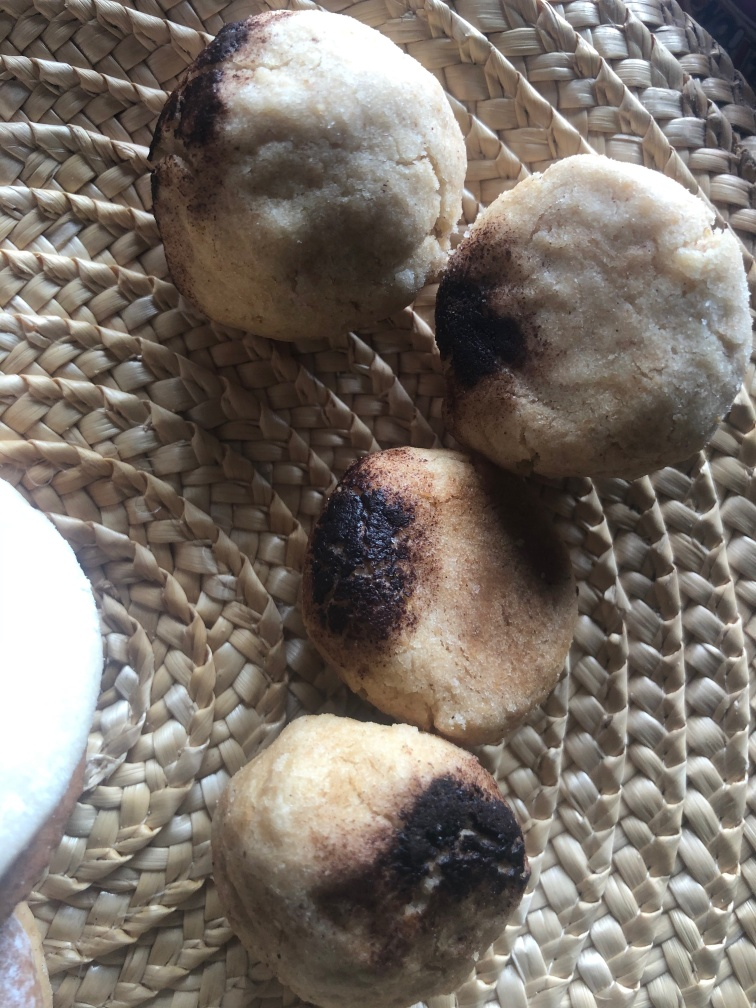snowball: (149, 6, 462, 349), (445, 146, 754, 481), (216, 710, 539, 1004), (311, 443, 582, 733)
